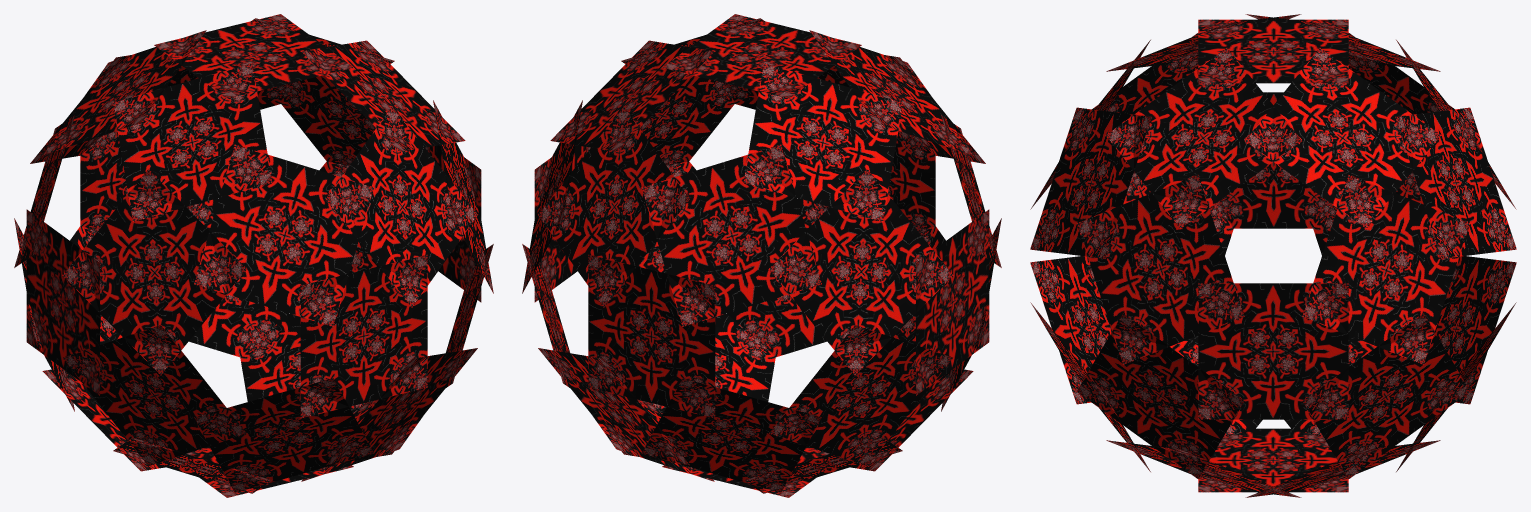
File: 1TruncatedDodecadodecahedron.gltf
The picture shows the model from 3 angles, left to right: view 1: azimuth 30°, elevation 25°; view 2: azimuth 150°, elevation 25°; view 3: azimuth 270°, elevation 25°; orthographic projection. The views are drawn at different scales.
Visible parts, largest first — view 1: 1TruncatedDodecadodecahedron; view 2: 1TruncatedDodecadodecahedron; view 3: 1TruncatedDodecadodecahedron.
Boxes of the visible parts, bbox=[...] form: 1TruncatedDodecadodecahedron: bbox=[14, 14, 493, 497]; 1TruncatedDodecadodecahedron: bbox=[522, 14, 1001, 497]; 1TruncatedDodecadodecahedron: bbox=[1030, 14, 1516, 497].
Size of the model in its own units: 3.24 by 3.24 by 3.24.
1 material, 1 textured.
